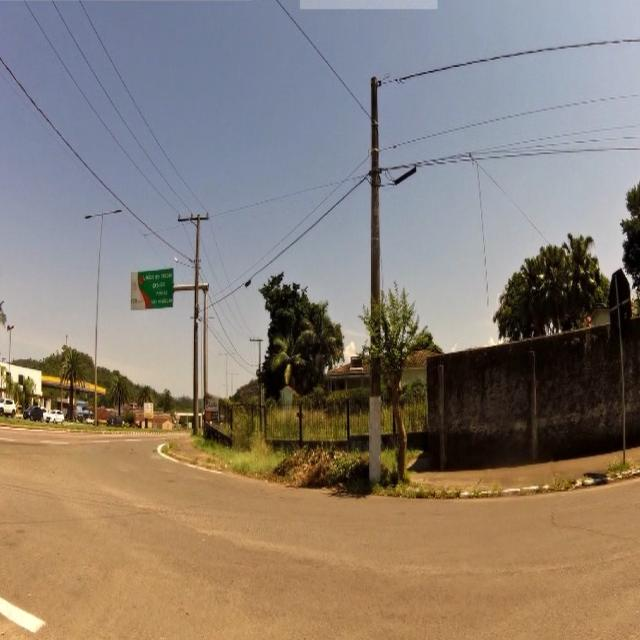I-4: (134, 271, 173, 307)
